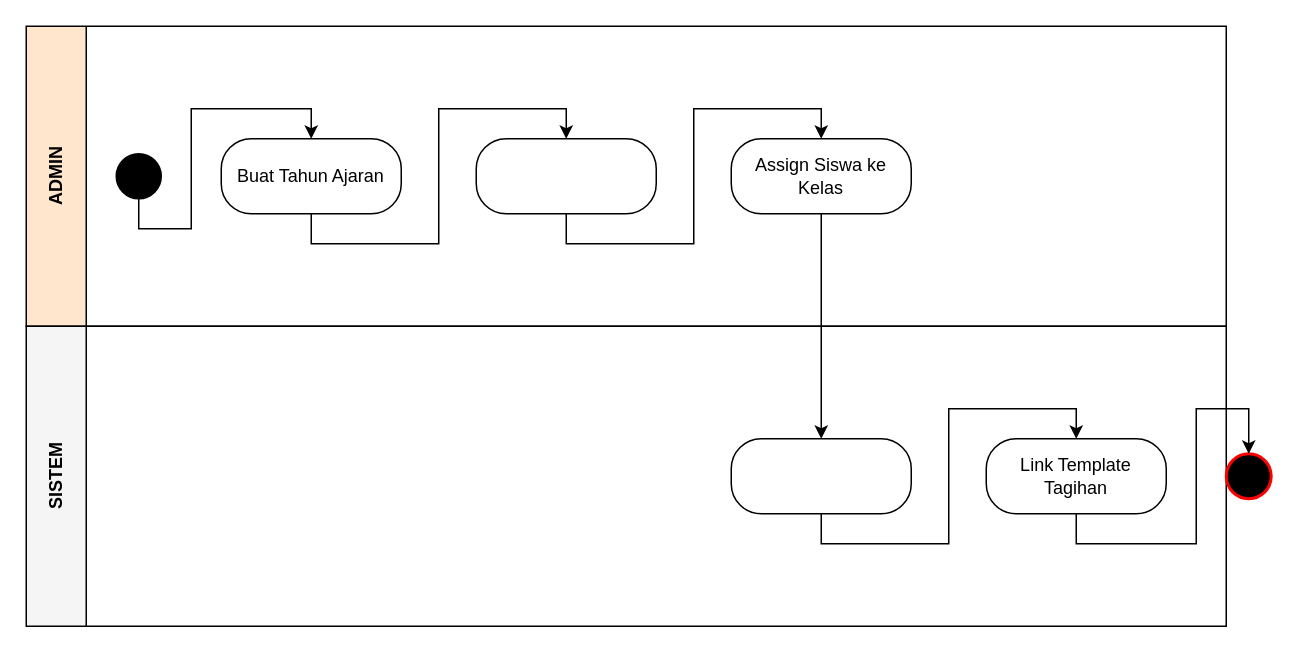
Image size: 1299x653. Some labels were removed from this diagram. Here are the shapes that lost their labels. From the top down, the centre of each, then its label:
At [565,175]: "Setup Kelas".
At [820,475]: "Simpan Riwayat Kelas".
